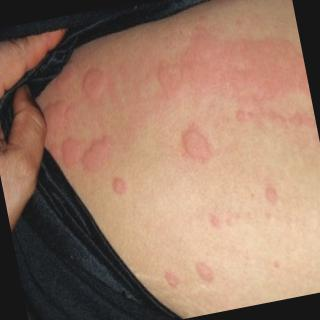urticaria: (171, 121, 217, 166)
